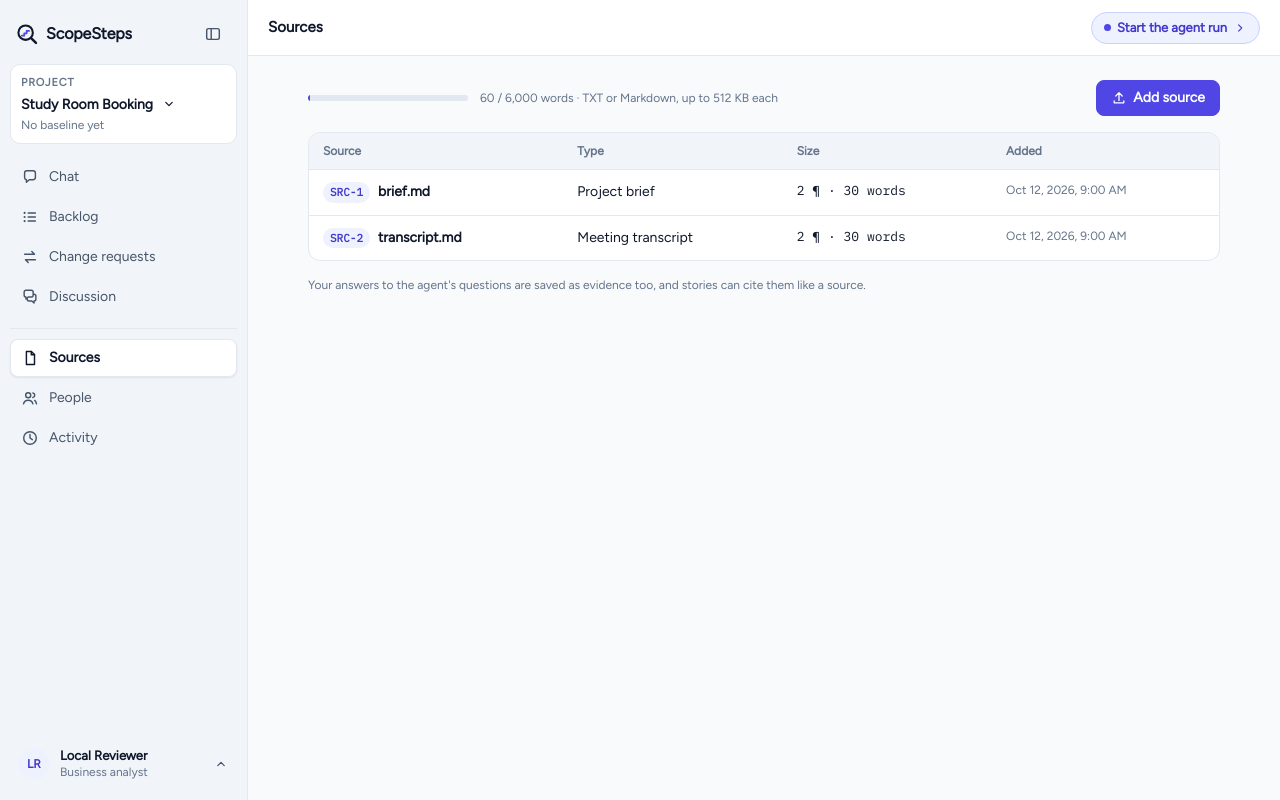
Test case: AppShell › offers only what the API can do today
The width and height of the screenshot is (1280, 800).
Click the button "LR Local Reviewer Business analyst" at (124, 764), box [10, 740, 237, 788]
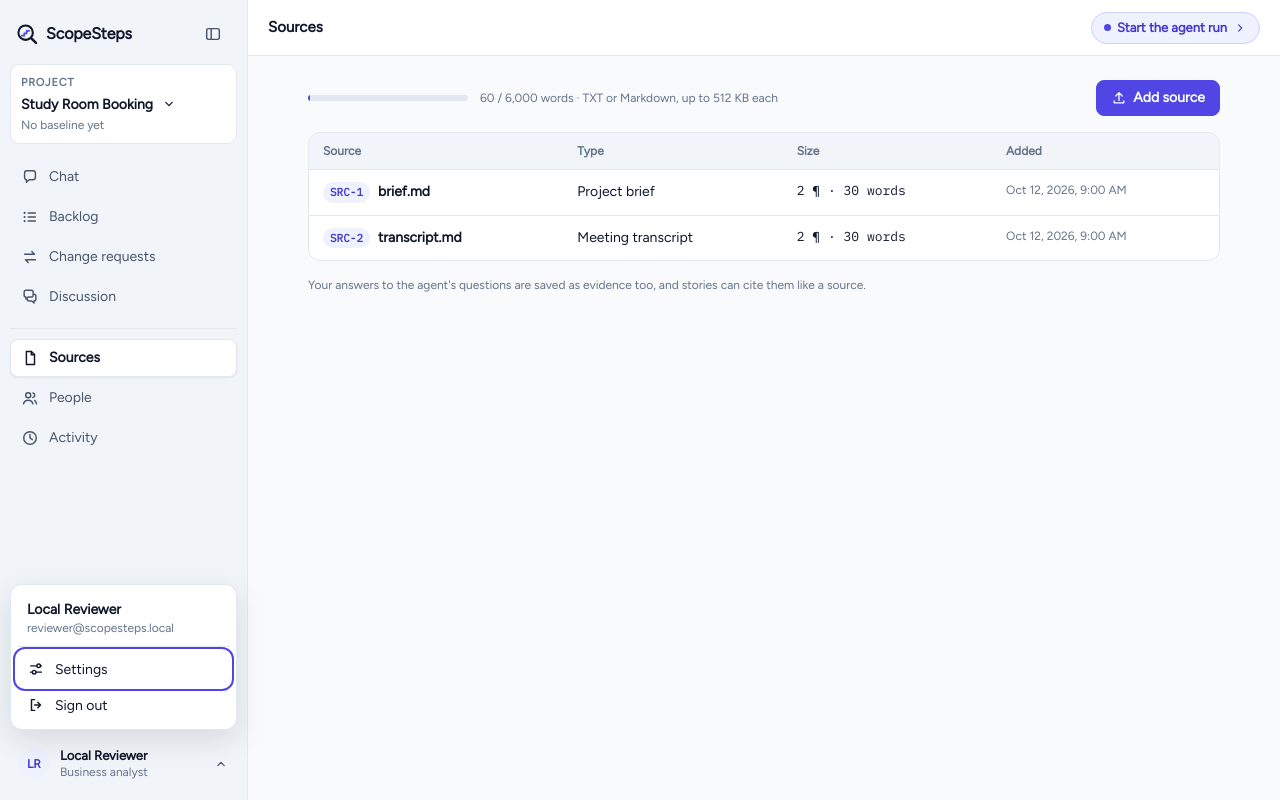
Result: the menu items read "Settings", "Sign out", in this order at [17, 651, 230, 687]; [17, 687, 230, 723]
